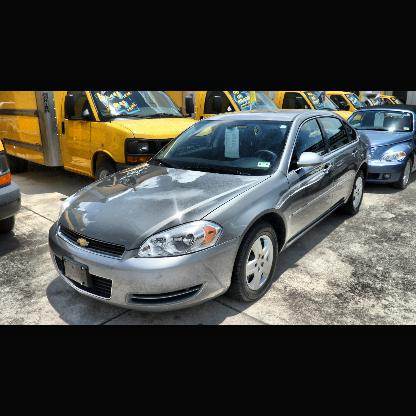Chevrolet Impala Sedan 2007: (51, 111, 371, 314)
